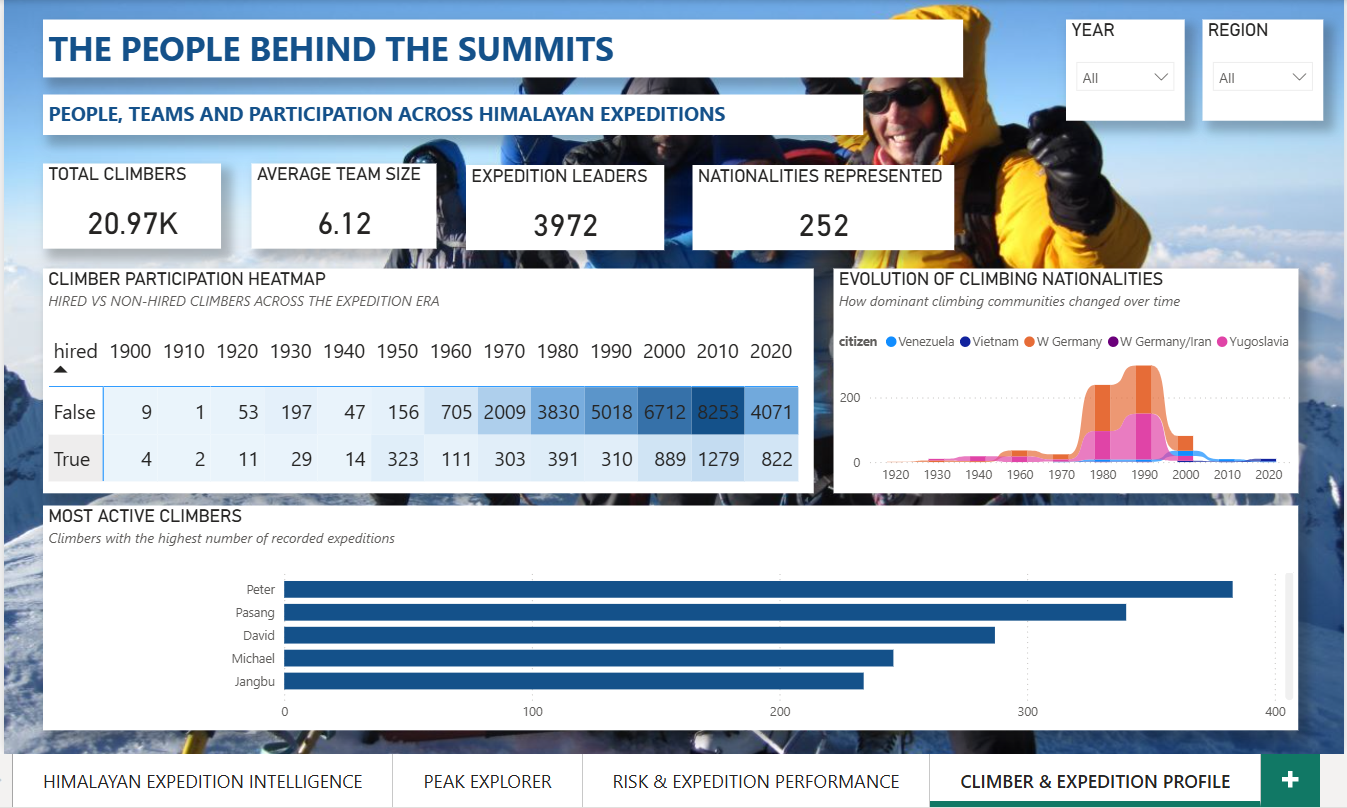

This screenshot's page, from the dashboard's own definition file:
{"tool":"powerbi","page":{"name":"CLIMBER & EXPEDITION PROFILE","canvas":[1280,720],"ordinal":3},"visuals":[{"type":"textbox","box":[37.2,18.3,878.3,55],"z":0},{"type":"textbox","box":[37.2,90,783.3,38.3],"z":1000},{"type":"slicer","title":"YEAR","fields":{"Values":["exped.year"]},"box":[1013.9,18.3,113.3,96.7],"z":2000},{"type":"slicer","title":"REGION","fields":{"Values":["peaks.region"]},"box":[1143.9,18.3,115,96.7],"z":3000},{"type":"card","title":"TOTAL CLIMBERS","fields":{"Values":["Count(members.fname)"]},"box":[36.6,155.9,170.2,81.1],"z":4000},{"type":"card","title":"AVERAGE TEAM SIZE","fields":{"Values":["Avg(exped.totmembers)"]},"box":[237,155.9,176.6,81.1],"z":5000},{"type":"card","title":"EXPEDITION LEADERS","fields":{"Values":["Count(members.fname)"]},"box":[440.6,157.5,189.3,81.1],"z":6000},{"type":"card","title":"NATIONALITIES REPRESENTED","fields":{"Values":["Count(members.citizen)"]},"box":[656.9,157.5,249.7,81.1],"z":7000},{"type":"pivotTable","title":"CLIMBER PARTICIPATION HEATMAP","fields":{"Columns":["members.myear (bins)"],"Rows":["members.hired"],"Values":["Count(members.fname)"]},"box":[37.2,256.4,736.2,214.9],"z":8000},{"type":"ribbonChart","title":"EVOLUTION OF CLIMBING NATIONALITIES","fields":{"Category":["members.myear (bins)"],"Series":["members.citizen"],"Y":["Count(members.fname)"]},"box":[792.1,256.4,444,214.9],"z":9000},{"type":"clusteredBarChart","title":"MOST ACTIVE CLIMBERS","fields":{"Category":["members.fname"],"Y":["Count(members.expid)"]},"box":[37.2,482.7,1198.9,214.9],"z":10000}]}

Visuals, with their boxes in screenshot pixels (x1, y1, x2, y2):
textbox: x1=46, y1=19, x2=957, y2=76
textbox: x1=46, y1=93, x2=859, y2=133
"YEAR" slicer: x1=1059, y1=19, x2=1177, y2=119
"REGION" slicer: x1=1194, y1=19, x2=1314, y2=119
"TOTAL CLIMBERS" card: x1=45, y1=162, x2=222, y2=246
"AVERAGE TEAM SIZE" card: x1=253, y1=162, x2=436, y2=246
"EXPEDITION LEADERS" card: x1=464, y1=163, x2=661, y2=248
"NATIONALITIES REPRESENTED" card: x1=689, y1=163, x2=948, y2=248
"CLIMBER PARTICIPATION HEATMAP" pivotTable: x1=46, y1=266, x2=810, y2=489
"EVOLUTION OF CLIMBING NATIONALITIES" ribbonChart: x1=829, y1=266, x2=1290, y2=489
"MOST ACTIVE CLIMBERS" clusteredBarChart: x1=46, y1=501, x2=1290, y2=724
